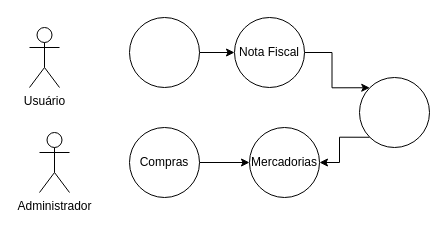
The diagram is 447 pixels wide and 231 high, and some of its shapes have lost their labels. The shapes that lost their labels are listed below. From the top down, each one's centre as x and y in pixels, then its label:
the point at 164,52: Menu
the point at 394,112: Vendas
